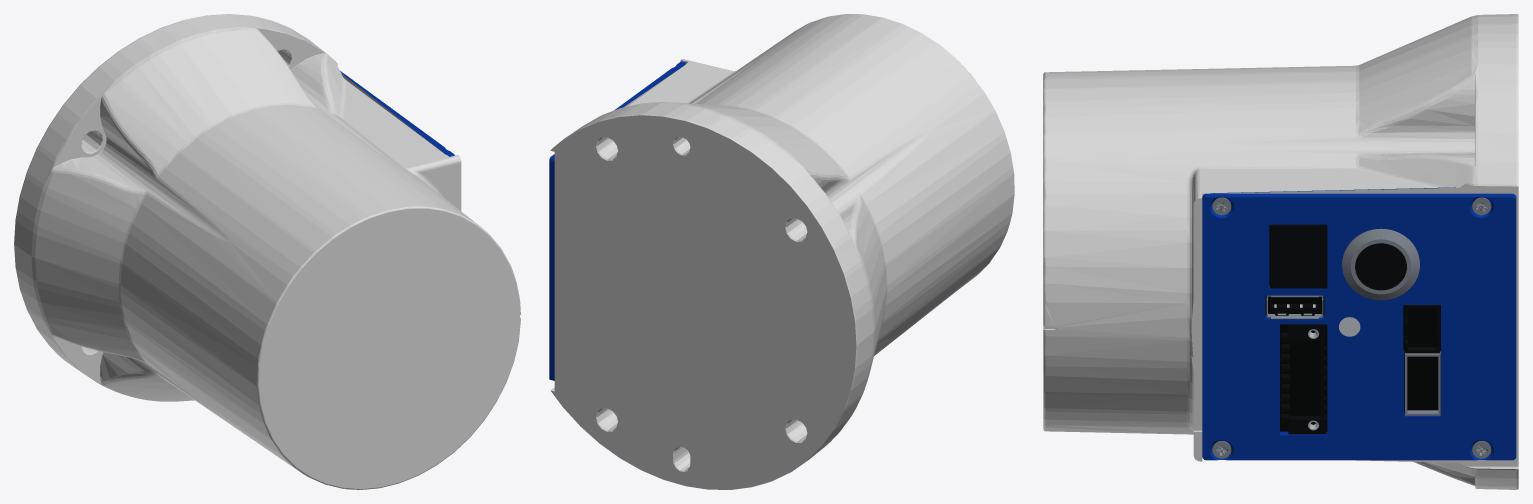
3 views of the same model, side by side, from view 1: azimuth 30°, elevation 25°; view 2: azimuth 150°, elevation 25°; view 3: azimuth 270°, elevation 25° (orthographic). The views are drawn at different scales.
Visible parts, largest first — view 1: base_link; view 2: base_link; view 3: base_link.
Part boxes in pixels (x1,y1,x2,y2): base_link: (14,14,520,489); base_link: (549,14,1014,489); base_link: (1043,14,1518,489).
Size of the model in its own units: 0.0985 by 0.1099 by 0.1097.
